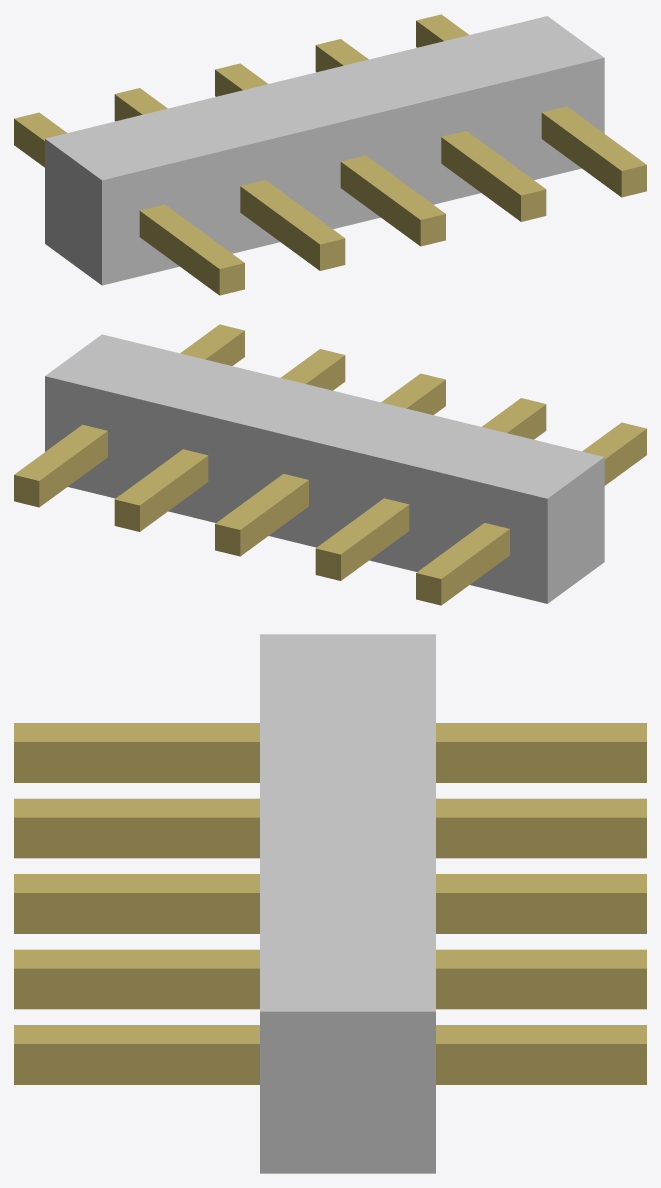
File: pin_header_254_5pin.glb
3 renders of one model, top to bottom at view 1: azimuth 30°, elevation 25°; view 2: azimuth 150°, elevation 25°; view 3: azimuth 270°, elevation 25°, orthographic. The views are drawn at different scales.
Visible parts, largest first — view 1: housing, pins; view 2: housing, pins; view 3: pins, housing.
Part boxes in pixels (x1=…): housing: x1=45, y1=16, x2=604, y2=285; pins: x1=14, y1=14, x2=646, y2=295; housing: x1=45, y1=334, x2=604, y2=603; pins: x1=14, y1=324, x2=646, y2=605; pins: x1=14, y1=723, x2=646, y2=1084; housing: x1=260, y1=634, x2=435, y2=1173.
Bounding box in the file's own units: 12.7 × 2.54 × 9.
